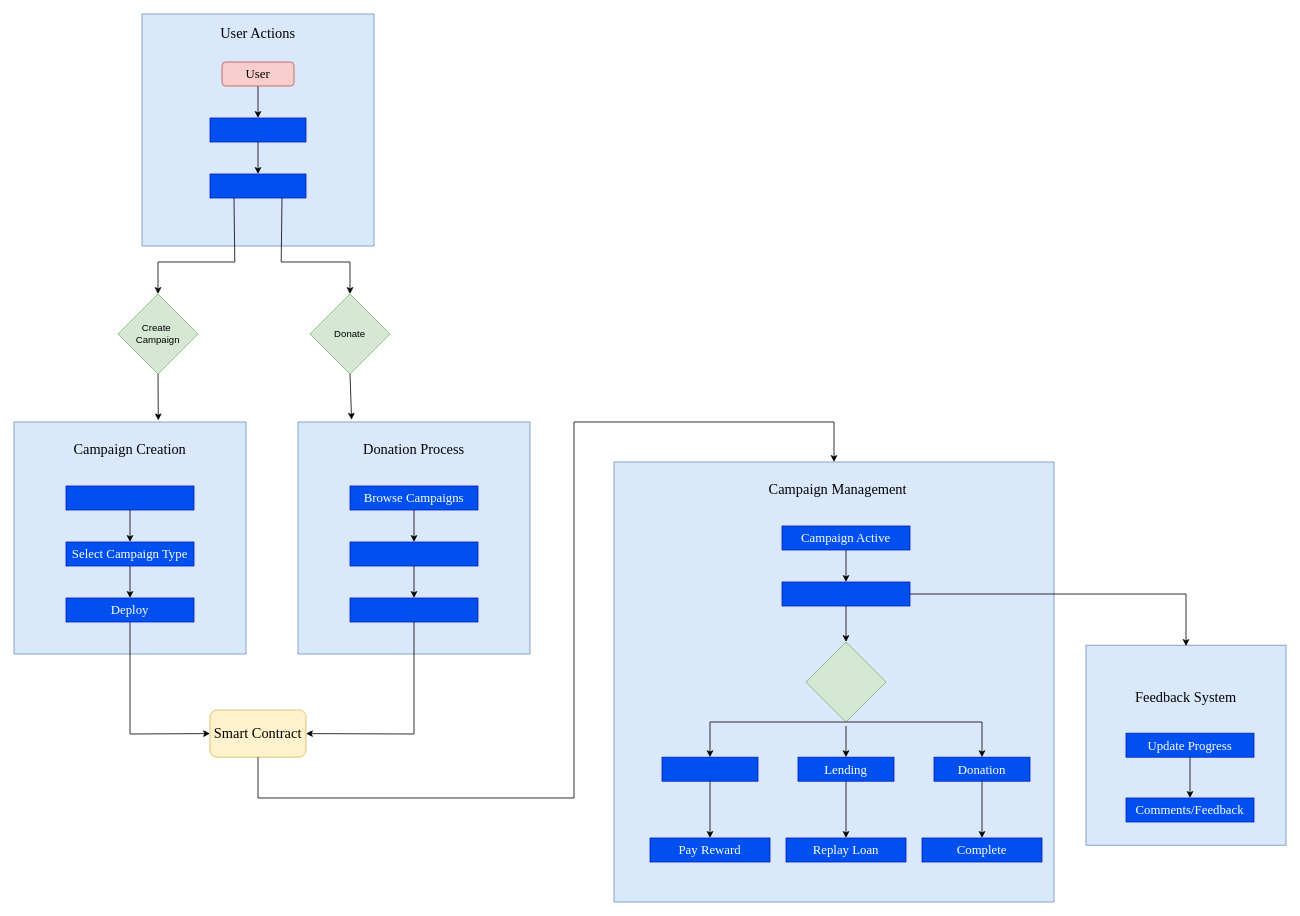
This 1300x916 diagram has some shape labels left out. Here are the shapes that lost their labels. From the top down, the centre of each, then its label:
At [257,129]: "Connect Wallet".
At [257,185]: "Choose Action".
At [129,497]: "Fill Campaign Form".
At [413,553]: "Select Campaign".
At [413,609]: "Make Donation".
At [845,593]: "Receive Donations".
At [845,681]: "Campaign Type".
At [709,768]: "Reward".
